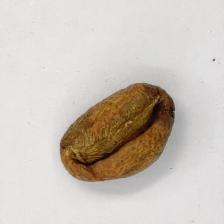NG: (60, 94, 124, 182), (123, 82, 175, 169)
